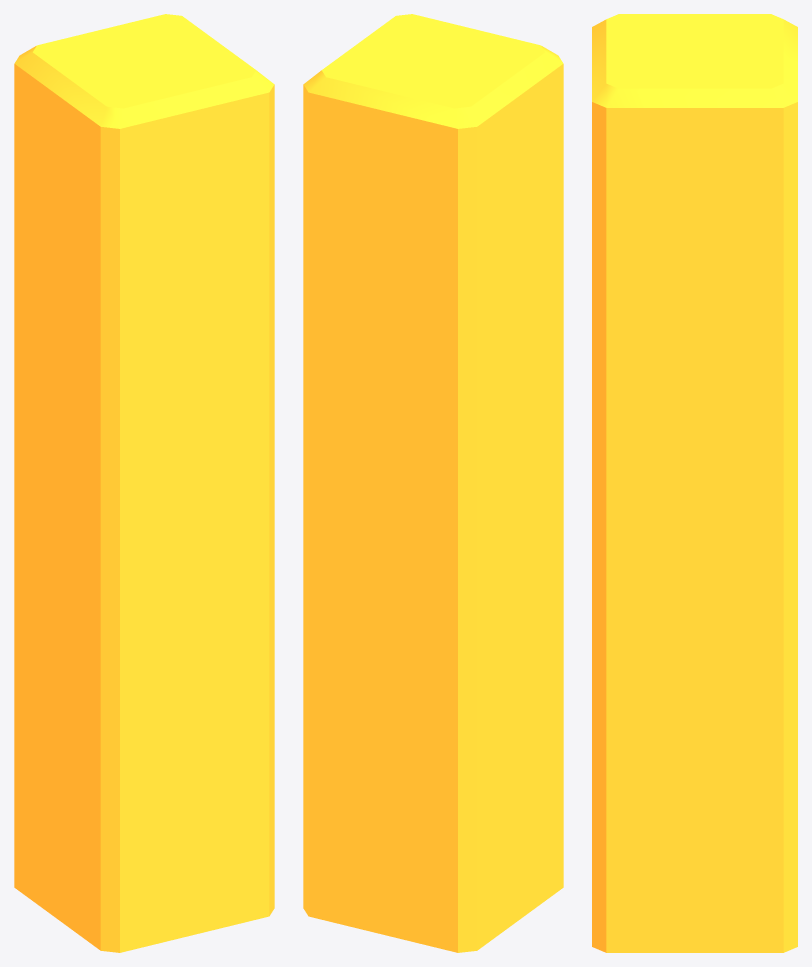
Rendered from pylon.glb.
The picture shows the model from 3 angles, left to right: view 1: azimuth 30°, elevation 25°; view 2: azimuth 150°, elevation 25°; view 3: azimuth 270°, elevation 25°; orthographic projection. The views are drawn at different scales.
Parts seen in each view (by area): view 1: pylon; view 2: pylon; view 3: pylon.
Part boxes in pixels (x1,y1,x2,y2): pylon: (14,14,274,952); pylon: (303,14,563,952); pylon: (592,14,797,952).
Size of the model in its own units: 0.1 by 0.46 by 0.1.
